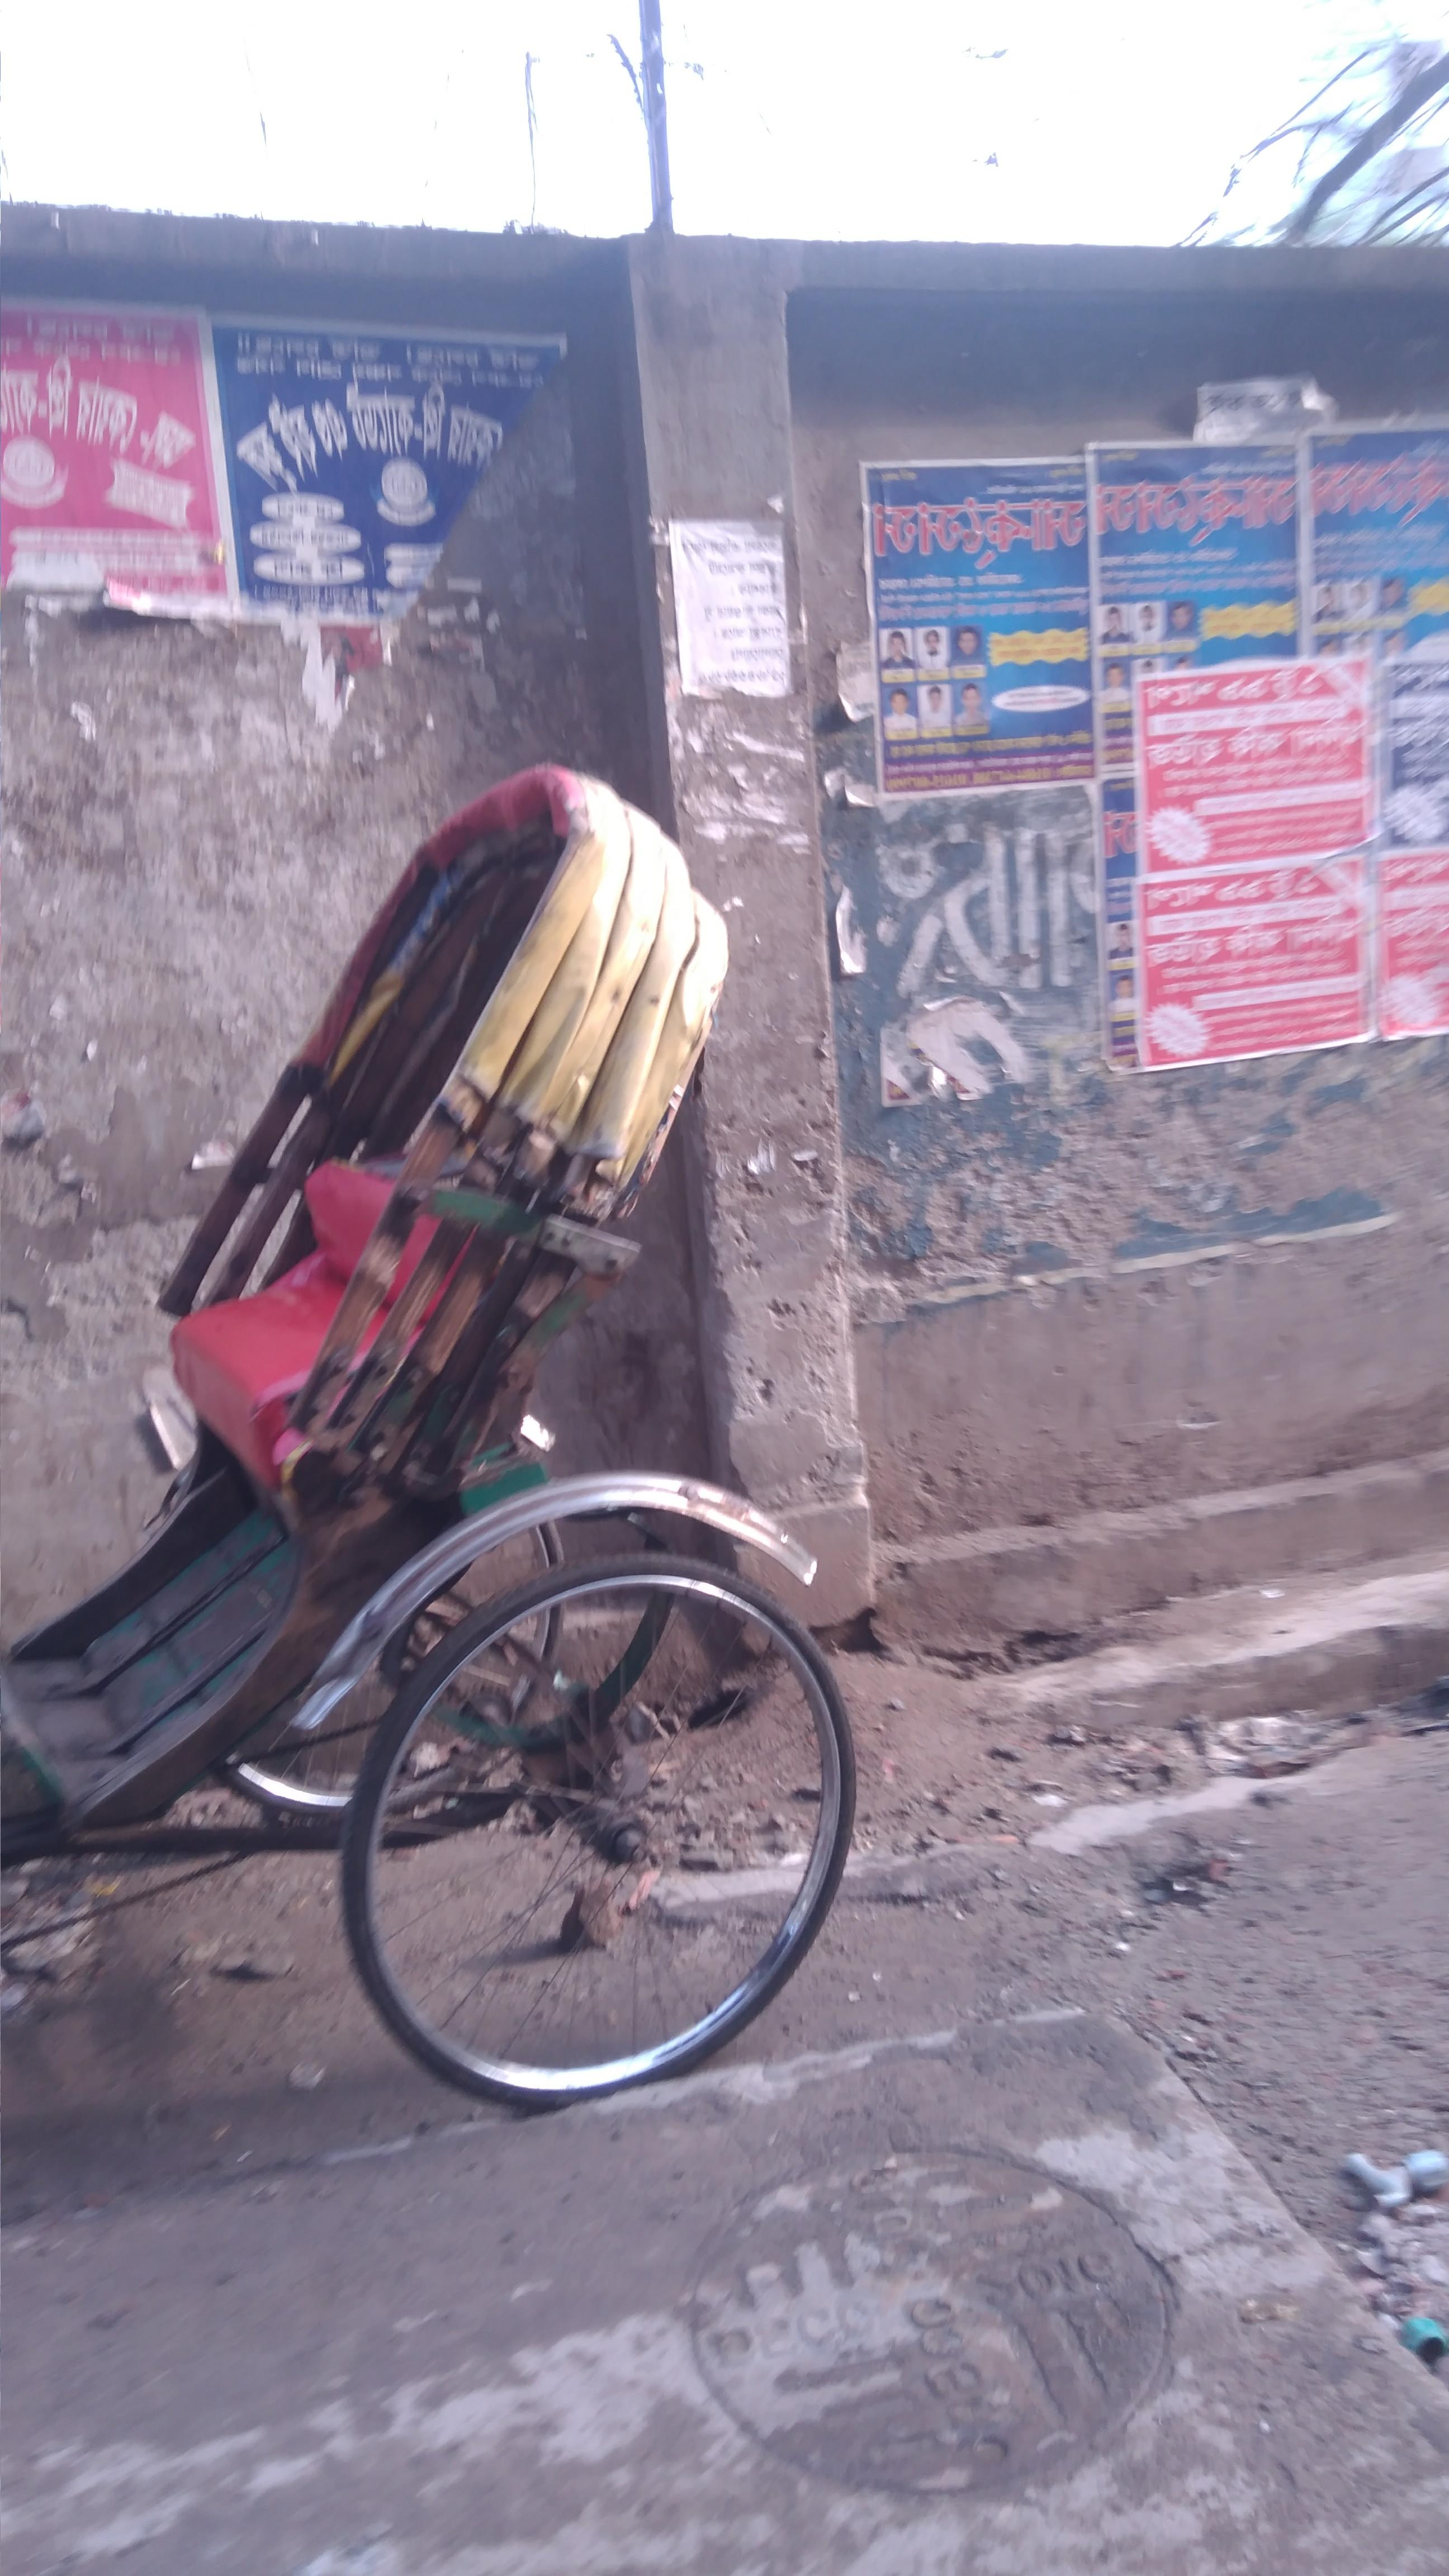Rickshaw: (12, 738, 872, 2095)
